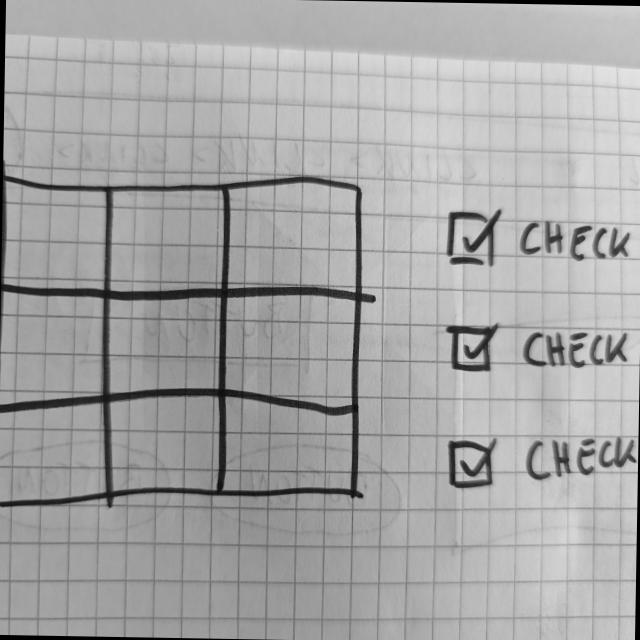checkbox: (445, 205, 639, 272), (447, 432, 639, 495), (446, 317, 633, 380)
table: (1, 169, 370, 518)
